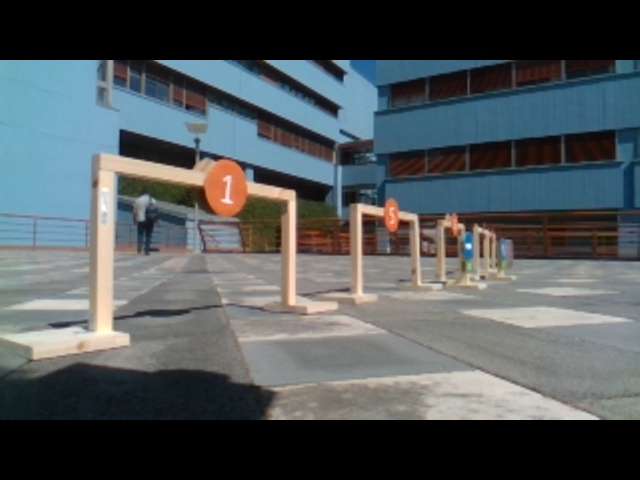checkpoint_foot: (1, 322, 135, 362), (261, 294, 342, 318), (321, 286, 379, 304), (398, 277, 442, 293)
checkpoint_side: (85, 149, 122, 331), (274, 183, 302, 304), (346, 201, 367, 289), (408, 207, 424, 283), (434, 217, 450, 280)
checkpoint_signal: (91, 149, 302, 205), (347, 201, 420, 226)
five: (380, 198, 405, 231)
one: (199, 159, 254, 217)
